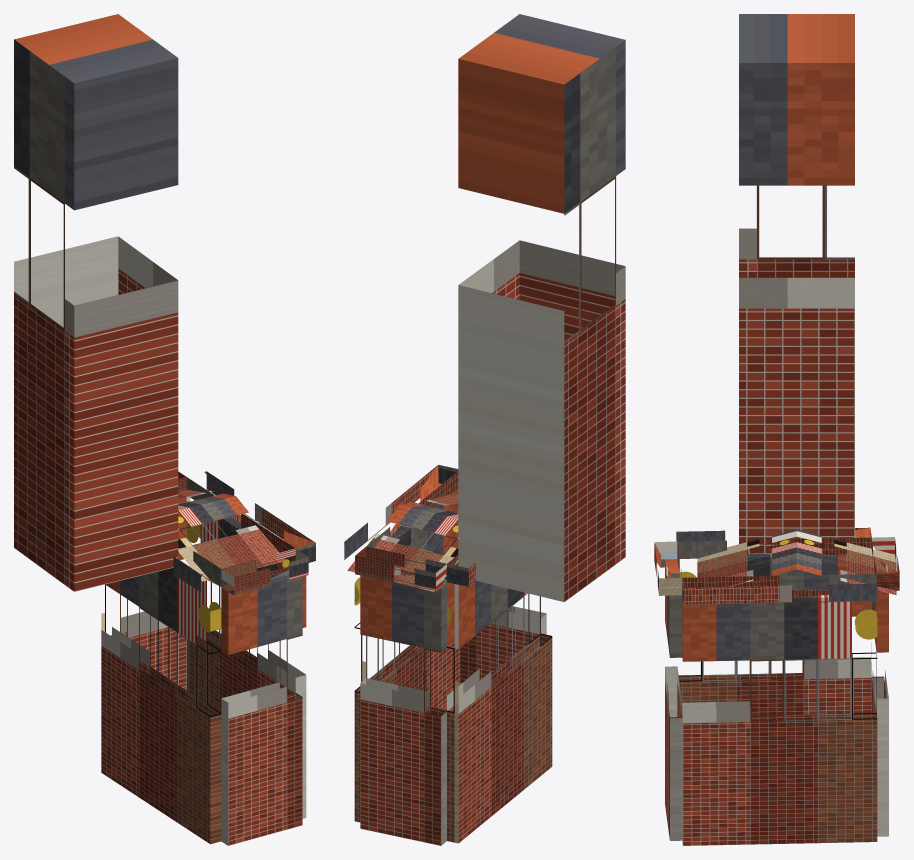
3 renders of one model, left to right at view 1: azimuth 30°, elevation 25°; view 2: azimuth 150°, elevation 25°; view 3: azimuth 270°, elevation 25°, orthographic. The views are drawn at different scales.
Parts seen in each view (by area): view 1: 1106973759__chimney_0_xb, 1106973759__wall_2_xb, 1106973759__wall_1_xb, 1106973759__wall_0_xb, 1106973759_roof_-1_xb, 1106973759__wall_3_xb, 1106973759__cornice_0, 1106973759__cornice_1, 1106973759__cornice_2; view 2: 1106973759__chimney_0_xb, 1106973759__wall_2_xb, 1106973759__wall_3_xb, 1106973759__wall_0_xb, 1106973759__wall_1_xb, 1106973759_roof_1_xb, 1106973759__cornice_0, 1106973759__cornice_3, 1106973759_roof_-1_xb, 1106973759__cornice_2; view 3: 1106973759__chimney_0_xb, 1106973759__wall_0_xb, 1106973759__wall_2_xb, 1106973759__cornice_0, 1106973759__wall_1_xb, 1106973759__wall_3_xb, 1106973759_roof_1_xb, 1106973759_roof_-1_xb, 1106973759__cornice_2, 1106973759__cornice_1, 1106973759__cornice_3.
Boxes of the visible parts, x1,y1,x2,y2 form: 1106973759__chimney_0_xb: [14, 14, 178, 591]; 1106973759__wall_2_xb: [101, 559, 221, 844]; 1106973759__wall_1_xb: [221, 570, 302, 845]; 1106973759__wall_0_xb: [186, 496, 306, 818]; 1106973759_roof_-1_xb: [178, 496, 285, 581]; 1106973759__wall_3_xb: [111, 497, 186, 690]; 1106973759__cornice_0: [186, 471, 315, 562]; 1106973759__cornice_1: [221, 548, 308, 595]; 1106973759__cornice_2: [165, 551, 221, 592]; 1106973759__chimney_0_xb: [458, 14, 625, 602]; 1106973759__wall_2_xb: [447, 581, 552, 843]; 1106973759__wall_3_xb: [360, 575, 446, 845]; 1106973759__wall_0_xb: [354, 489, 459, 822]; 1106973759__wall_1_xb: [460, 606, 546, 684]; 1106973759_roof_1_xb: [347, 505, 458, 591]; 1106973759__cornice_0: [344, 464, 458, 559]; 1106973759__cornice_3: [355, 546, 446, 591]; 1106973759_roof_-1_xb: [400, 494, 458, 518]; 1106973759__cornice_2: [447, 555, 476, 586]; 1106973759__chimney_0_xb: [739, 14, 854, 553]; 1106973759__wall_0_xb: [682, 594, 877, 845]; 1106973759__wall_2_xb: [678, 554, 871, 715]; 1106973759__cornice_0: [682, 573, 877, 604]; 1106973759__wall_1_xb: [665, 559, 682, 840]; 1106973759__wall_3_xb: [871, 591, 888, 836]; 1106973759_roof_1_xb: [797, 529, 896, 595]; 1106973759_roof_-1_xb: [697, 529, 796, 586]; 1106973759__cornice_2: [676, 527, 871, 558]; 1106973759__cornice_1: [654, 541, 682, 595]; 1106973759__cornice_3: [871, 537, 899, 591].
Bounding box in the file's own units: 0.3066 × 1.05 × 0.3173.
1 material, 1 textured.
